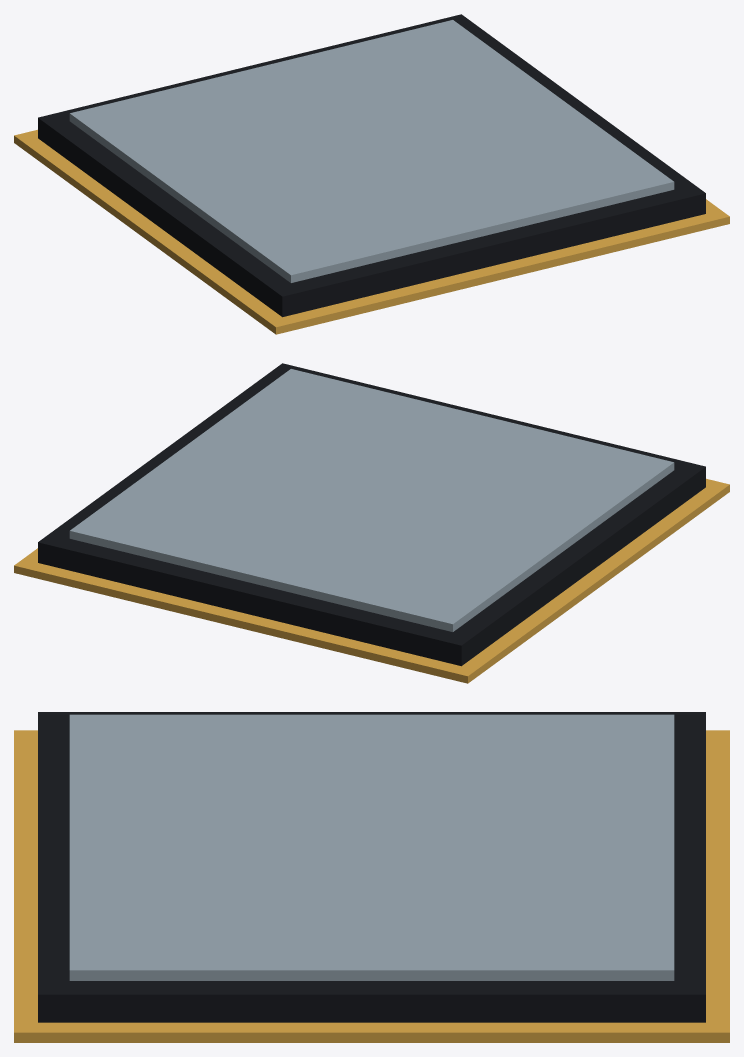
The model's file is 001_L110_U01_CPU_DynamicLoad.fbx.
3 views of the same model, one above another, from view 1: azimuth 30°, elevation 25°; view 2: azimuth 150°, elevation 25°; view 3: azimuth 270°, elevation 25° (orthographic). The views are drawn at different scales.
Visible parts, largest first — view 1: L110_U01_CPU_DynamicLoad_ALUMINUM, L110_U01_CPU_DynamicLoad_EPOXY, L110_U01_CPU_DynamicLoad_GOLD; view 2: L110_U01_CPU_DynamicLoad_ALUMINUM, L110_U01_CPU_DynamicLoad_EPOXY, L110_U01_CPU_DynamicLoad_GOLD; view 3: L110_U01_CPU_DynamicLoad_ALUMINUM, L110_U01_CPU_DynamicLoad_EPOXY, L110_U01_CPU_DynamicLoad_GOLD.
Part boxes in pixels (bbox=[...]): L110_U01_CPU_DynamicLoad_ALUMINUM: bbox=[69, 20, 674, 282]; L110_U01_CPU_DynamicLoad_EPOXY: bbox=[38, 14, 705, 317]; L110_U01_CPU_DynamicLoad_GOLD: bbox=[14, 129, 729, 334]; L110_U01_CPU_DynamicLoad_ALUMINUM: bbox=[69, 369, 674, 631]; L110_U01_CPU_DynamicLoad_EPOXY: bbox=[38, 363, 705, 666]; L110_U01_CPU_DynamicLoad_GOLD: bbox=[14, 478, 729, 683]; L110_U01_CPU_DynamicLoad_ALUMINUM: bbox=[69, 714, 674, 980]; L110_U01_CPU_DynamicLoad_EPOXY: bbox=[38, 712, 705, 1022]; L110_U01_CPU_DynamicLoad_GOLD: bbox=[14, 730, 729, 1042].
Bounding box in the file's own units: 45 × 45 × 3.4.
